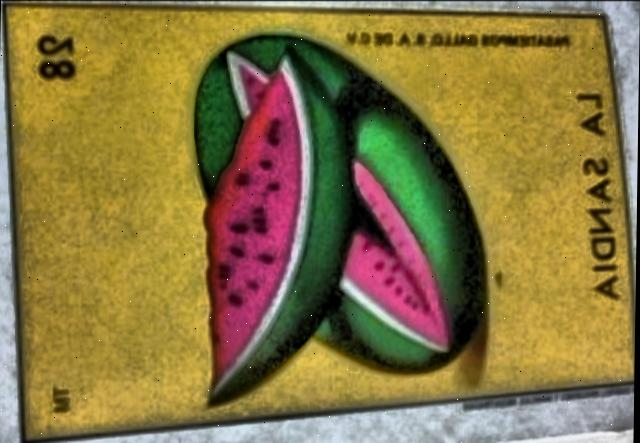La Sandia: (4, 5, 634, 441)
